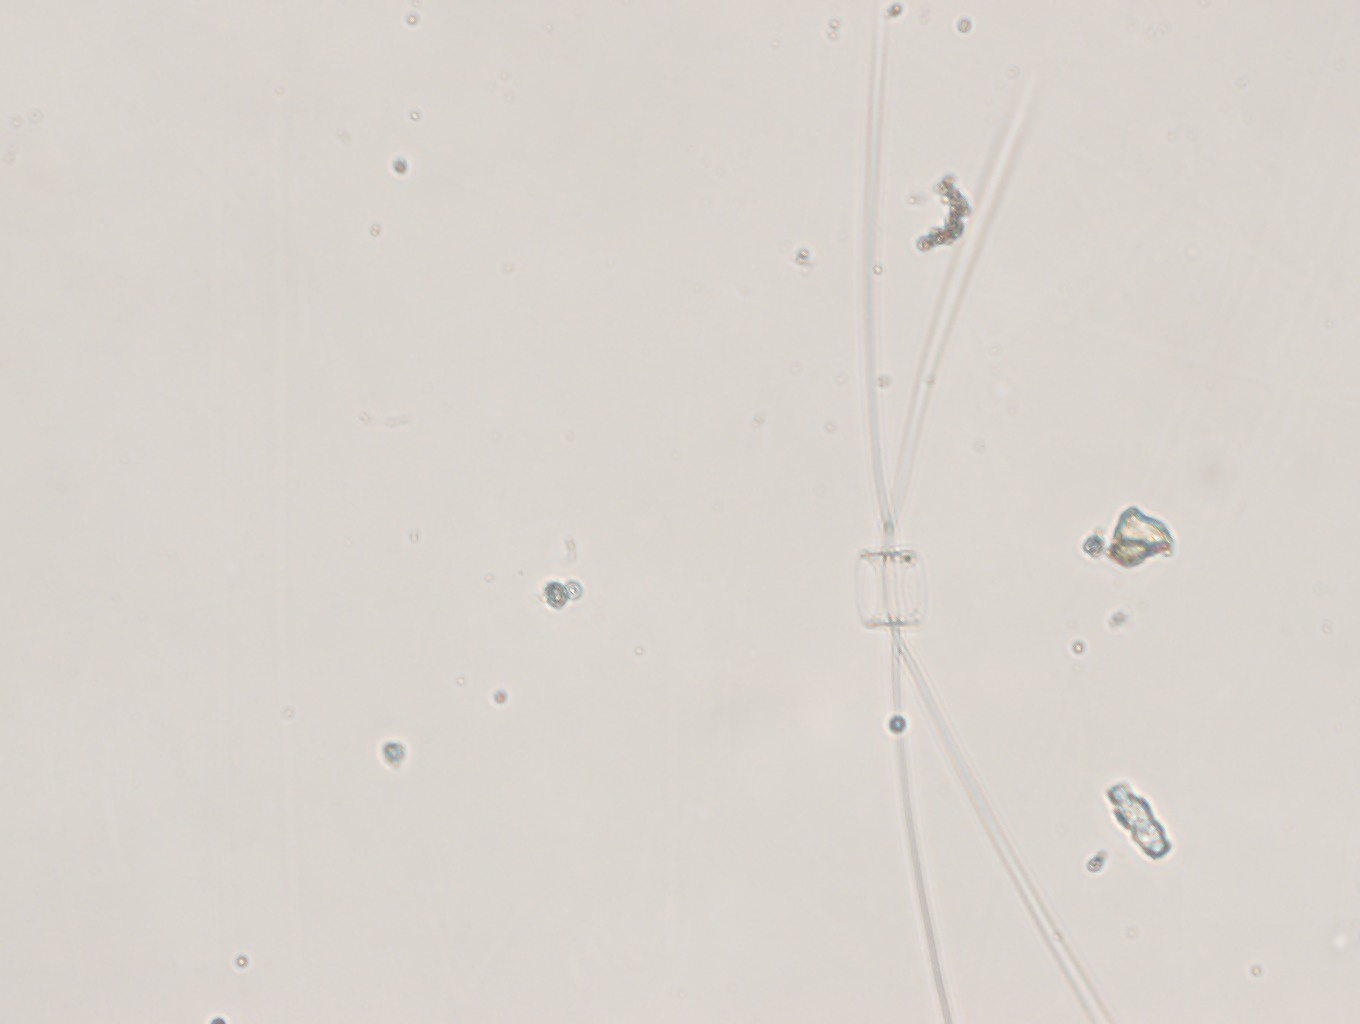chaetoceros: (846, 1, 1122, 1024)
